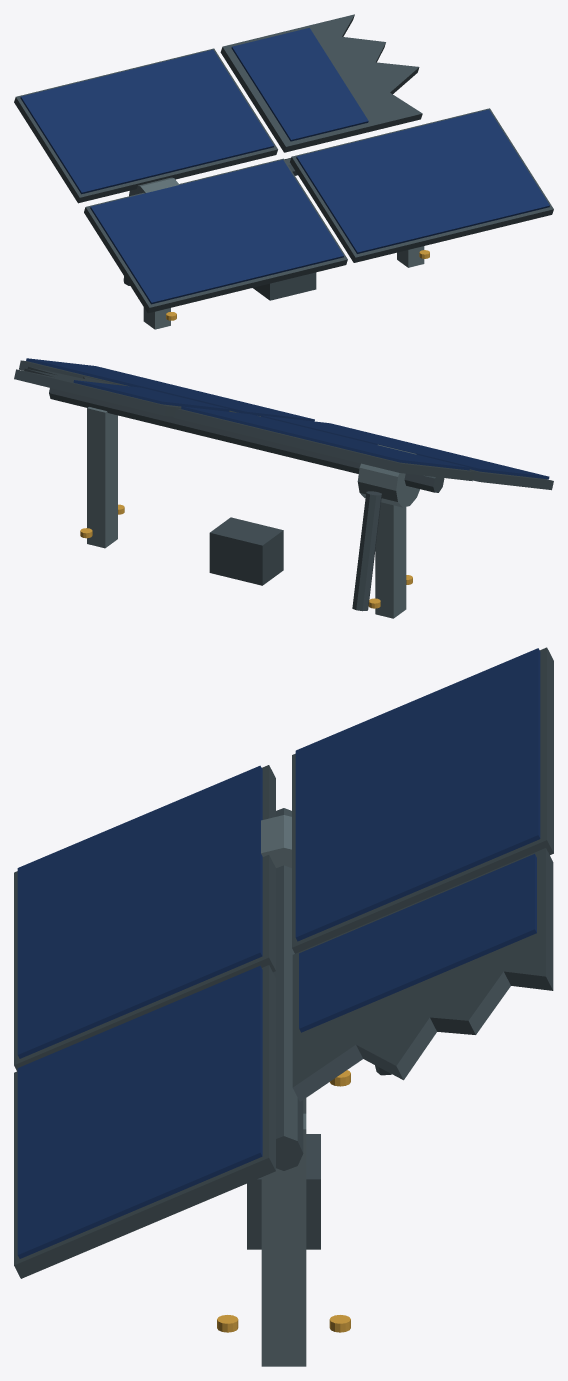
The model's file is solar_panel_rack_d1.glb.
3 renders of one model, top to bottom at view 1: azimuth 30°, elevation 25°; view 2: azimuth 150°, elevation 25°; view 3: azimuth 270°, elevation 25°, orthographic. The views are drawn at different scales.
Parts seen in each view (by area): view 1: SOLAR_GAME_MESH; view 2: SOLAR_GAME_MESH; view 3: SOLAR_GAME_MESH.
Boxes of the visible parts, x1=… form: SOLAR_GAME_MESH: x1=14, y1=14, x2=553, y2=329; SOLAR_GAME_MESH: x1=14, y1=358, x2=553, y2=618; SOLAR_GAME_MESH: x1=14, y1=647, x2=553, y2=1366.
Bounding box in the file's own units: 4.79 × 2.24 × 2.78.
